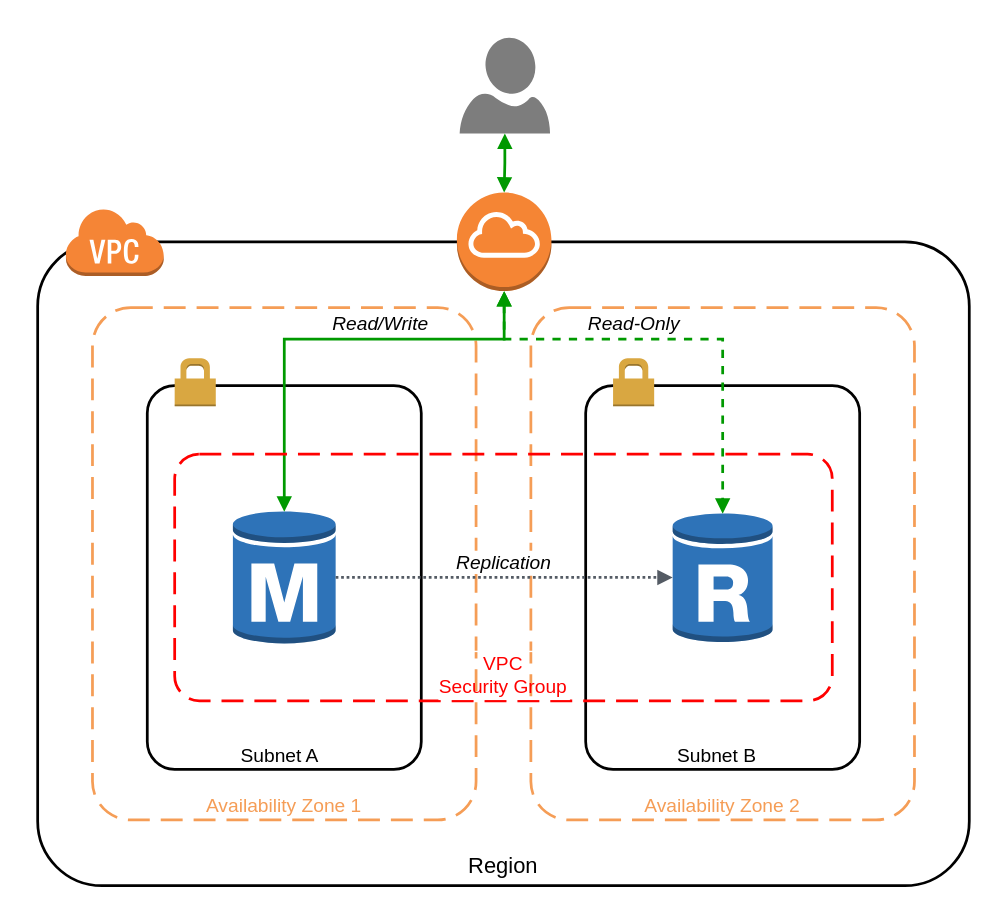
Some shapes in this 1006 by 923 pixel diagram are drawn without their labels. Here are the shapes that lost their labels. From the top down, the centre of each, then its label:
pixel 284 577: RDS Master
pixel 722 577: RDS Read Replica
